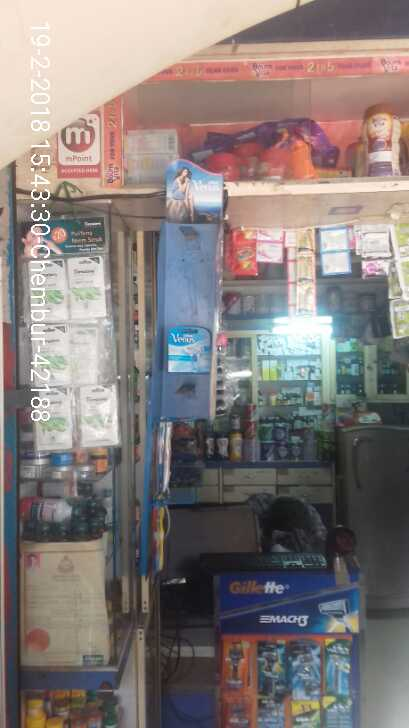beauty: (166, 323, 215, 376), (287, 639, 317, 698), (212, 641, 248, 688), (257, 642, 285, 699), (317, 642, 344, 690)
